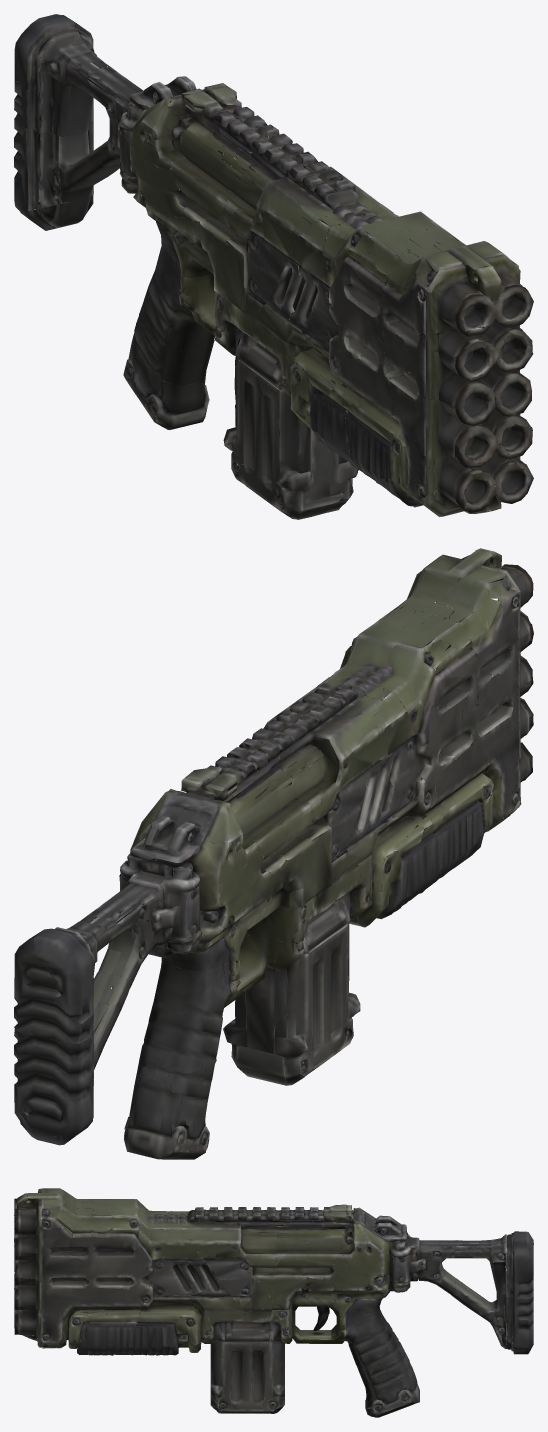
File: weapon_scattergun.glb
3 views of the same model, one above another, from view 1: azimuth 30°, elevation 25°; view 2: azimuth 150°, elevation 25°; view 3: azimuth 270°, elevation 25° (orthographic). The views are drawn at different scales.
Parts seen in each view (by area): view 1: weapon_scattergun; view 2: weapon_scattergun; view 3: weapon_scattergun.
Boxes of the visible parts, <box> form: weapon_scattergun: <box>14,14,533,519</box>; weapon_scattergun: <box>14,548,533,1159</box>; weapon_scattergun: <box>14,1188,533,1417</box>.
Size of the model in its own units: 0.0925 by 0.3496 by 0.7509.
1 material, 1 textured.
